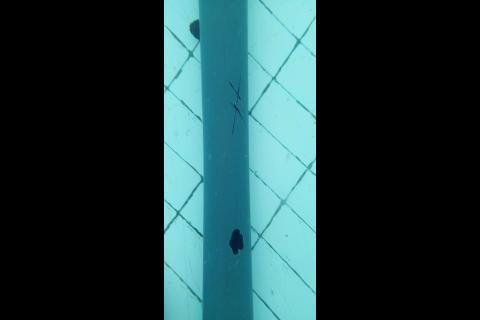kebocoran: (228, 227, 245, 256)
keretakan: (228, 75, 245, 135)
